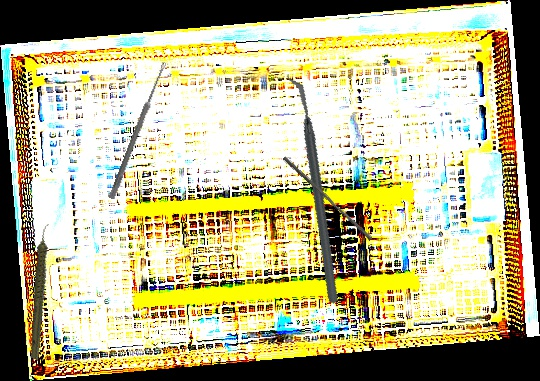Chopper: (233, 73, 393, 306)
Handpiece: (3, 222, 80, 361)
Pusher: (279, 156, 376, 241)
Surgical Spoon: (108, 61, 168, 200)
